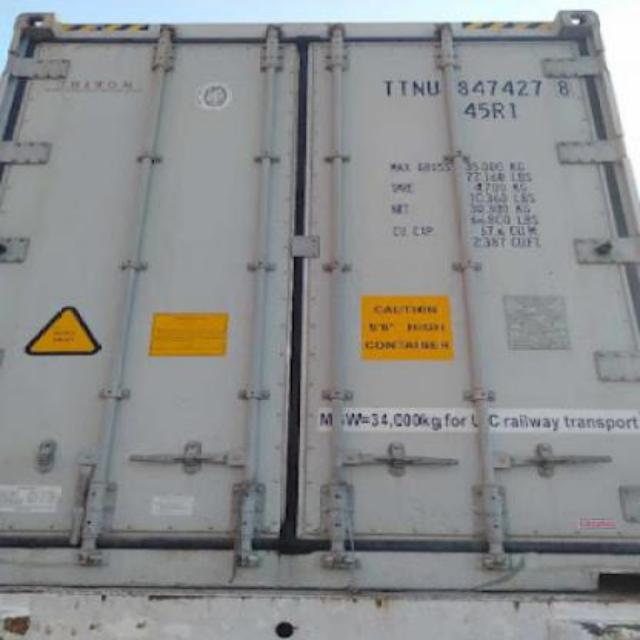2: (514, 74, 528, 98)
4: (500, 72, 516, 98), (472, 75, 484, 98)
7: (528, 74, 544, 100), (484, 74, 500, 98)
8: (556, 75, 572, 98), (454, 76, 470, 96)
N: (410, 78, 426, 98)
T: (380, 78, 396, 99), (396, 76, 409, 100)
U: (426, 75, 442, 101)
